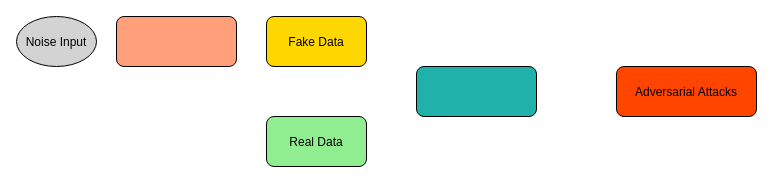
Some shapes in this 773 by 183 pixel diagram are drawn without their labels. Each missing label, with the centre of its shape:
"Discriminator" belongs at point (476, 91).
"Generator" belongs at point (176, 41).
